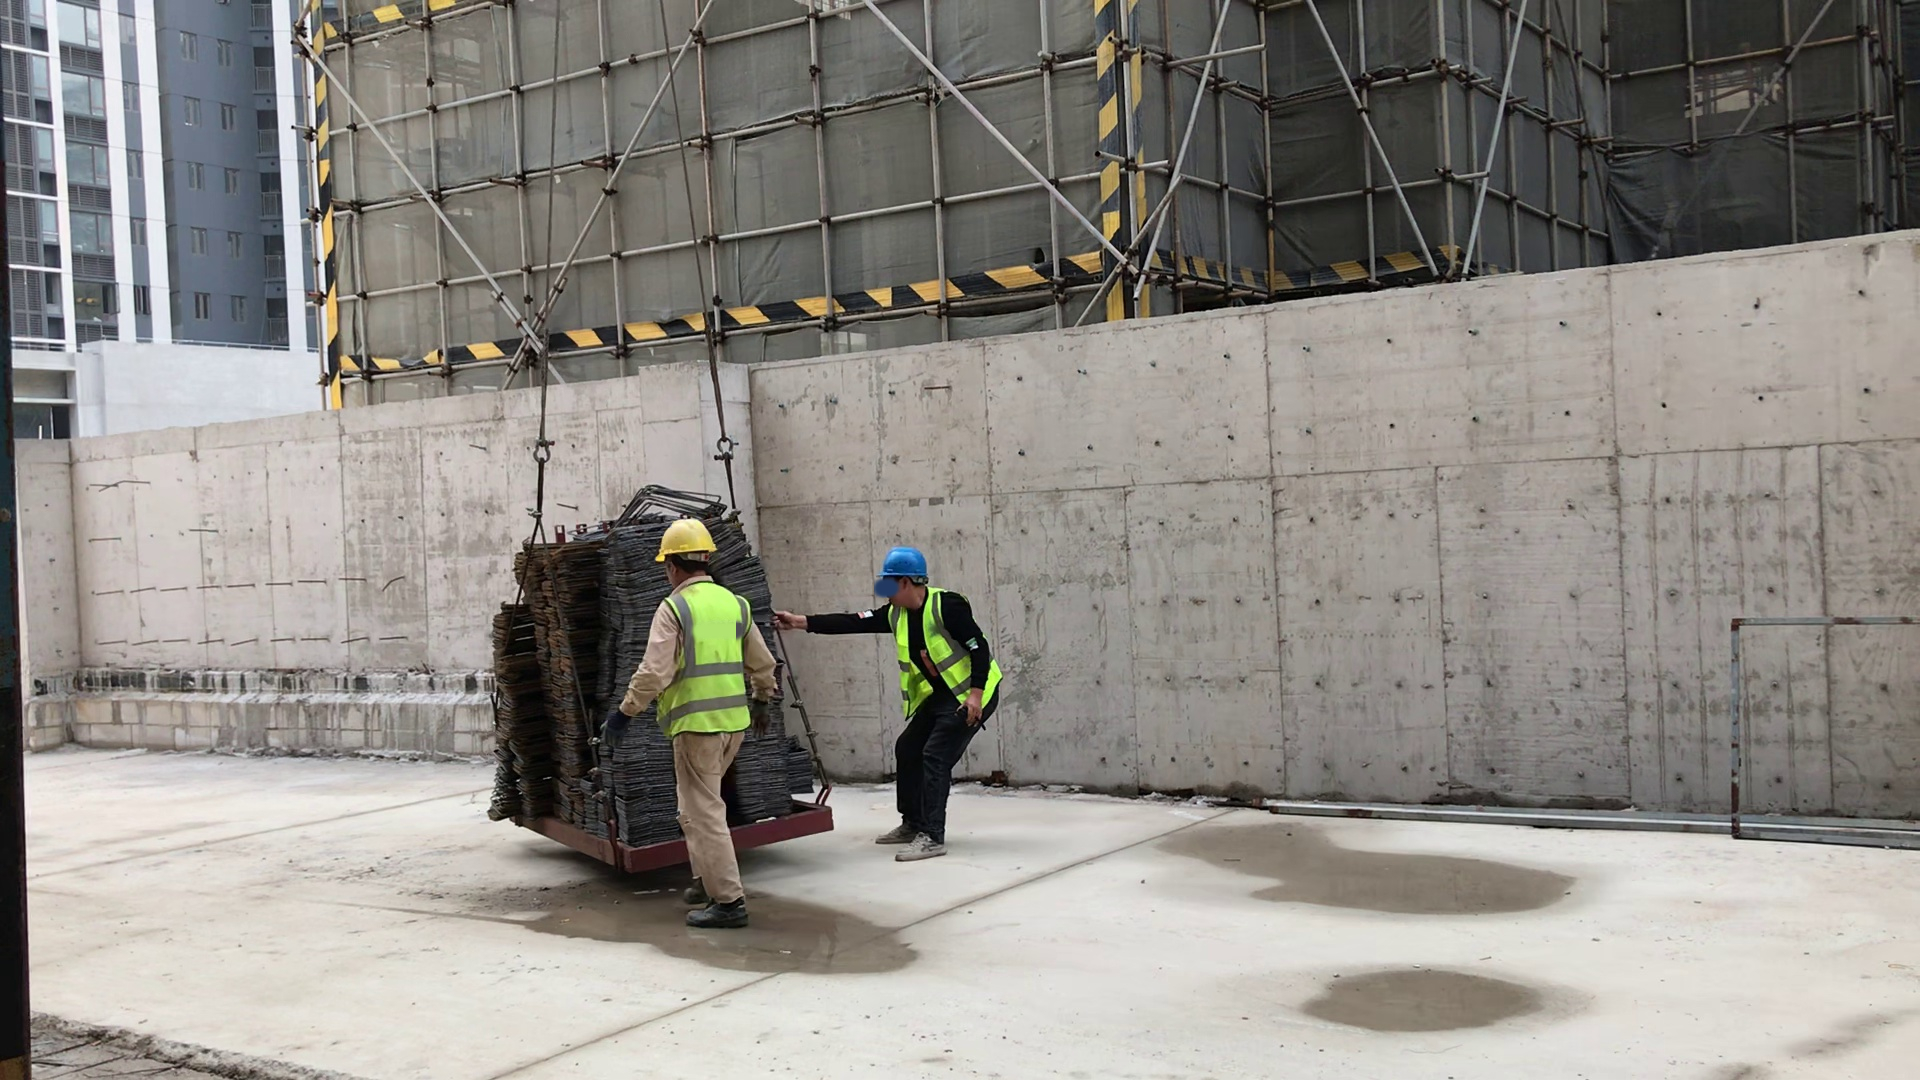helmet: (656, 507, 723, 563), (872, 540, 938, 585)
person: (628, 515, 768, 911), (835, 540, 1004, 868)
vest: (871, 595, 1004, 715), (660, 583, 757, 729)
